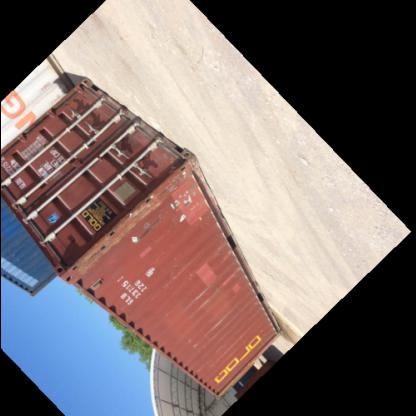Damage: (67, 220, 156, 268), (156, 163, 210, 232), (212, 260, 247, 300), (173, 286, 211, 322), (207, 318, 226, 340), (183, 336, 199, 354)
